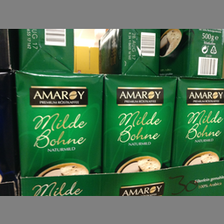coffee: (14, 71, 103, 175), (102, 73, 177, 172), (171, 79, 223, 167), (97, 30, 159, 74)
